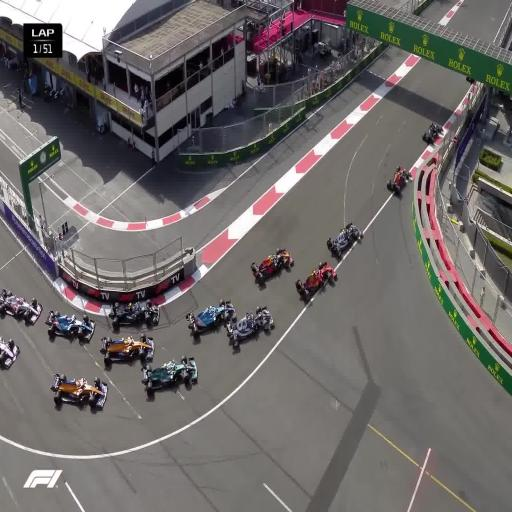f1_car: (141, 356, 197, 393), (226, 305, 274, 347), (50, 374, 107, 408), (186, 300, 236, 336), (100, 333, 154, 365), (295, 261, 337, 300), (0, 289, 42, 324), (251, 248, 294, 282), (45, 311, 95, 340), (109, 301, 159, 329), (327, 221, 362, 256), (386, 165, 411, 192), (0, 337, 19, 368), (422, 122, 442, 144)
